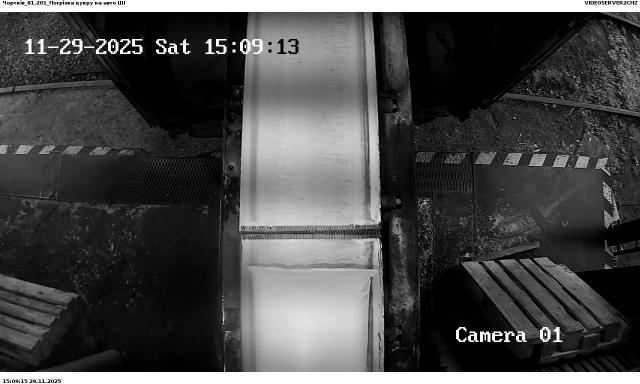bag: (248, 265, 378, 372)
